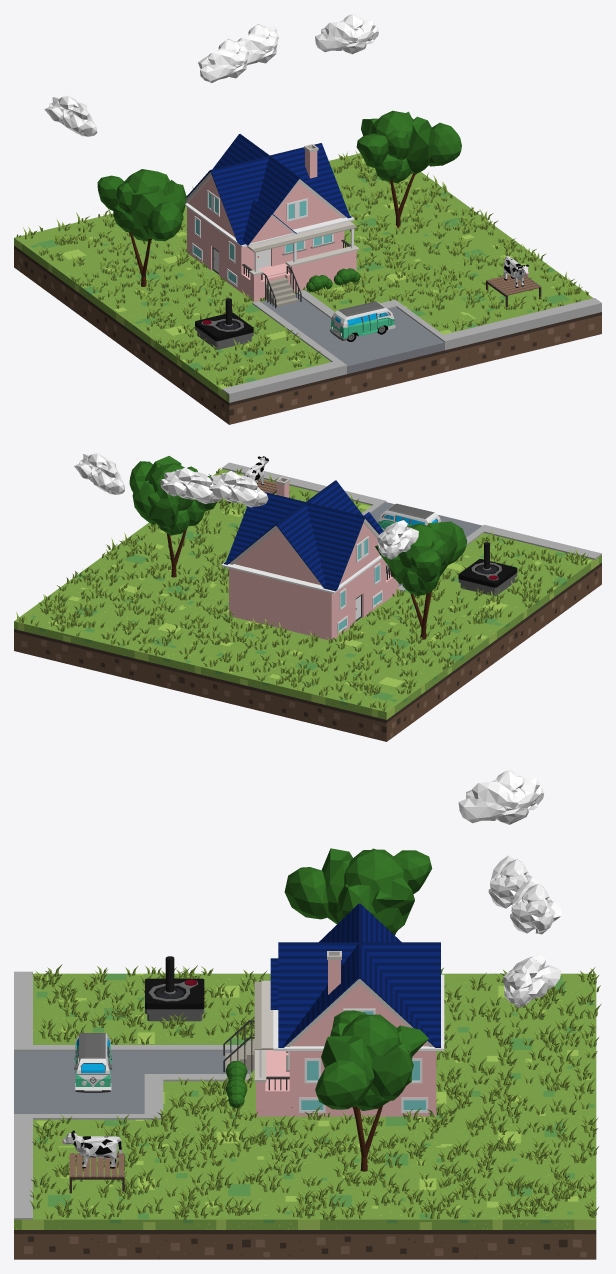
3 views of the same model, one above another, from view 1: azimuth 30°, elevation 25°; view 2: azimuth 150°, elevation 25°; view 3: azimuth 270°, elevation 25° (orthographic). The views are drawn at different scales.
Parts seen in each view (by area): view 1: Cube.006, Cube.313, Circle.012_Grass_0.192, Cube.007, tree, tree.001, VEHICLES_VAN, OBJRANDOM_JOYSTICK, Cube.009; view 2: Cube.006, Cube.313, Circle.012_Grass_0.192, Cube.007, tree.001, tree, OBJRANDOM_JOYSTICK, VEHICLES_VAN; view 3: Cube.006, Circle.012_Grass_0.192, Cube.313, tree, Cube.007, tree.001, OBJRANDOM_JOYSTICK, VEHICLES_VAN, Cube.009, ANIMAL_VACA.
Boxes of the visible parts, x1,y1,x2,y2 form: Cube.006: [14, 153, 601, 424]; Cube.313: [185, 134, 359, 308]; Circle.012_Grass_0.192: [16, 150, 588, 386]; Cube.007: [44, 14, 378, 136]; tree: [356, 110, 461, 228]; tree.001: [97, 169, 186, 286]; VEHICLES_VAN: [330, 301, 395, 341]; OBJRANDOM_JOYSTICK: [195, 298, 253, 349]; Cube.009: [486, 274, 541, 306]; Cube.006: [14, 462, 601, 741]; Cube.313: [221, 477, 398, 640]; Circle.012_Grass_0.192: [16, 468, 588, 711]; Cube.007: [74, 453, 418, 559]; tree.001: [375, 521, 467, 639]; tree: [129, 456, 216, 577]; OBJRANDOM_JOYSTICK: [458, 542, 517, 596]; VEHICLES_VAN: [378, 503, 441, 530]; Cube.006: [14, 971, 596, 1259]; Circle.012_Grass_0.192: [29, 964, 601, 1220]; Cube.313: [223, 903, 444, 1116]; tree: [315, 1010, 428, 1171]; Cube.007: [458, 770, 561, 1007]; tree.001: [284, 848, 432, 935]; OBJRANDOM_JOYSTICK: [145, 956, 204, 1021]; VEHICLES_VAN: [74, 1033, 112, 1092]; Cube.009: [69, 1153, 124, 1193]; ANIMAL_VACA: [62, 1130, 121, 1168].
Size of the model in its own units: 4071 by 2153 by 4040.
42 materials, 3 textured.
